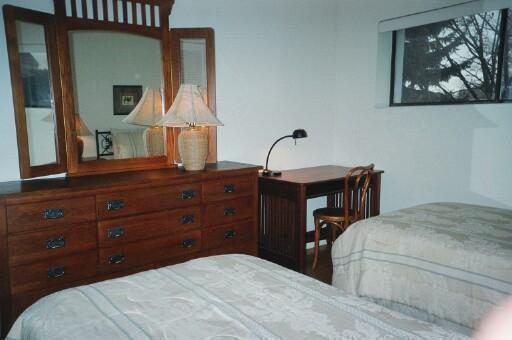Cama: (47, 285, 465, 339), (343, 199, 508, 330)
Ventana: (385, 27, 511, 101)
